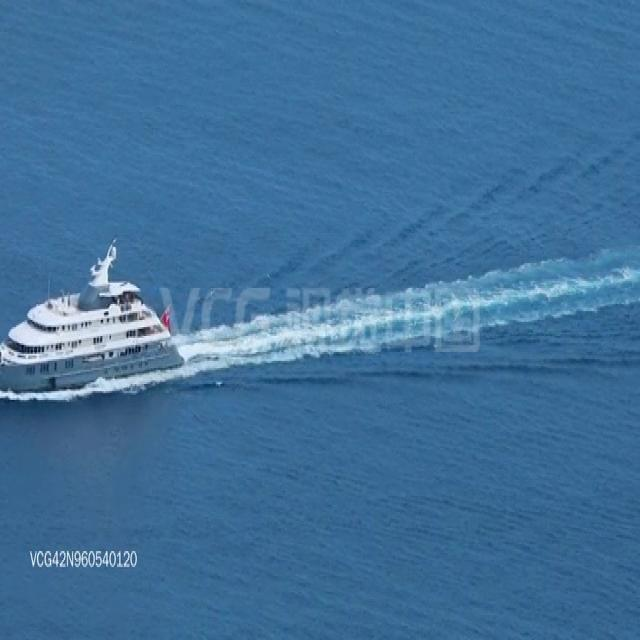passenger ship: (0, 235, 184, 396)
